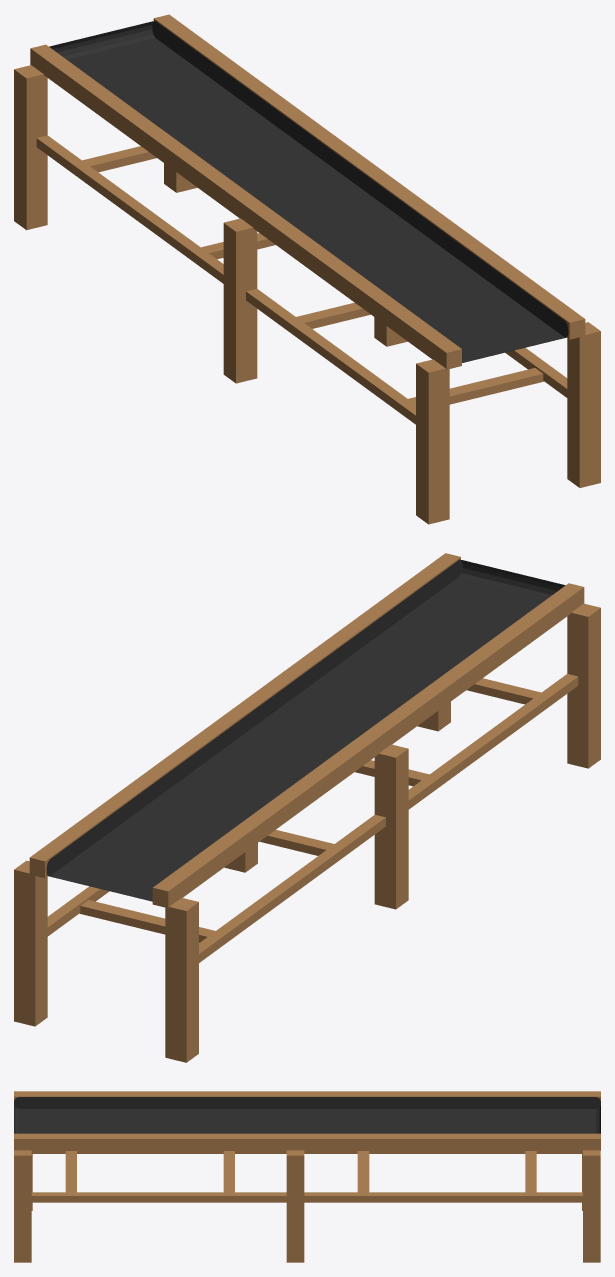
File: conveyor_belt (1).glb
3 views of the same model, one above another, from view 1: azimuth 30°, elevation 25°; view 2: azimuth 150°, elevation 25°; view 3: azimuth 270°, elevation 25° (orthographic). The views are drawn at different scales.
Visible parts, largest first — view 1: Cube.013, Cube, Cube.008, Cube.003, Cube.001, Cube.002, Cube.004, Cube.010, Cube.007, Cube.012, Cube.009; view 2: Cube.013, Cube, Cube.008, Cube.002, Cube.001, Cube.003, Cube.006, Cube.012, Cube.007, Cube.010, Cube.011; view 3: Cube.013, Cube, Cube.007, Cube.005, Cube.004, Cube.006, Cube.008, Cube.011, Cube.012, Cube.009, Cube.010.
Part boxes in pixels (x1,y1,x2,y2): Cube.013: (49, 21, 568, 362); Cube: (30, 14, 585, 369); Cube.008: (36, 135, 415, 424); Cube.003: (416, 359, 449, 524); Cube.001: (223, 218, 257, 383); Cube.002: (14, 65, 47, 230); Cube.004: (567, 322, 600, 487); Cube.010: (408, 368, 543, 404); Cube.007: (505, 347, 567, 397); Cube.012: (82, 146, 156, 172); Cube.009: (296, 302, 370, 328); Cube.013: (46, 559, 565, 901); Cube: (29, 553, 584, 908); Cube.008: (199, 674, 578, 962); Cube.002: (165, 898, 198, 1062); Cube.001: (374, 744, 408, 909); Cube.003: (567, 603, 600, 768); Cube.006: (14, 860, 47, 1026); Cube.012: (79, 900, 215, 942); Cube.007: (47, 886, 109, 936); Cube.010: (466, 678, 541, 704); Cube.011: (260, 830, 334, 855); Cube.013: (14, 1097, 600, 1133); Cube: (14, 1091, 600, 1150); Cube.007: (31, 1192, 582, 1202); Cube.005: (286, 1150, 304, 1262); Cube.004: (14, 1150, 31, 1262); Cube.006: (583, 1150, 600, 1262); Cube.008: (31, 1151, 582, 1153); Cube.011: (357, 1151, 369, 1192); Cube.012: (525, 1151, 536, 1192); Cube.009: (223, 1151, 234, 1192); Cube.010: (65, 1151, 76, 1192).
Bounding box in the file's own units: 1.14 × 1.06 × 4.78.
